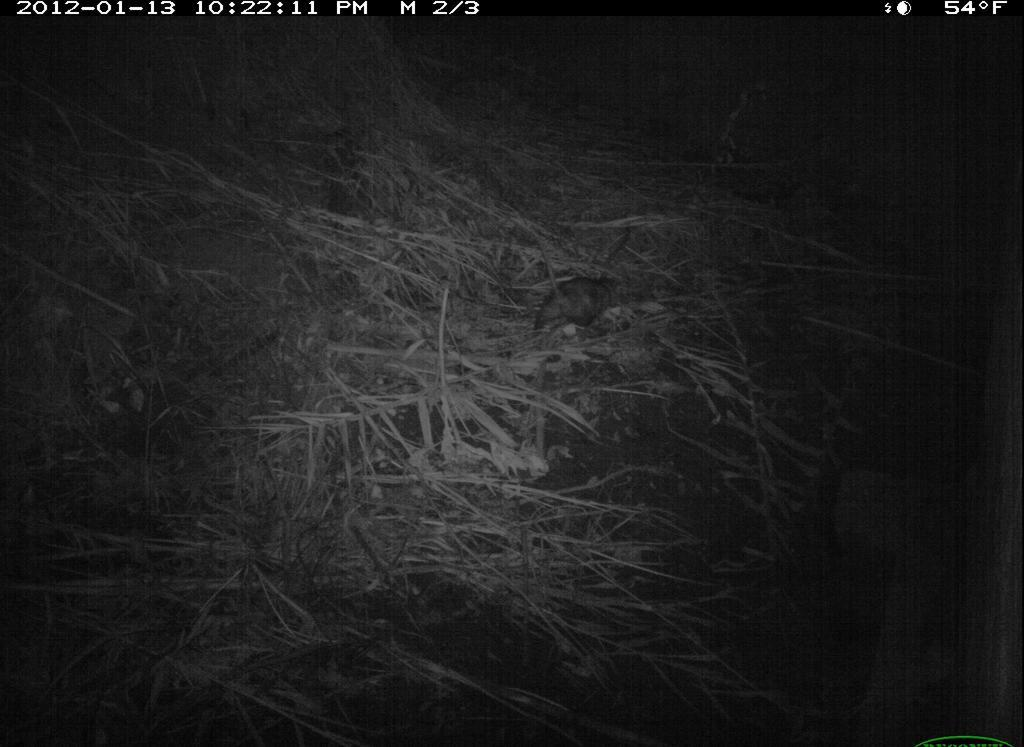opossum: (519, 253, 646, 332)
